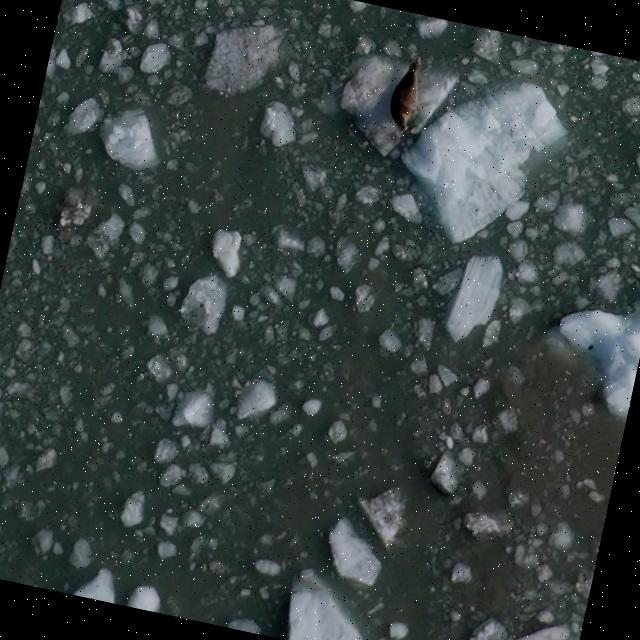seal: (384, 58, 425, 134)
